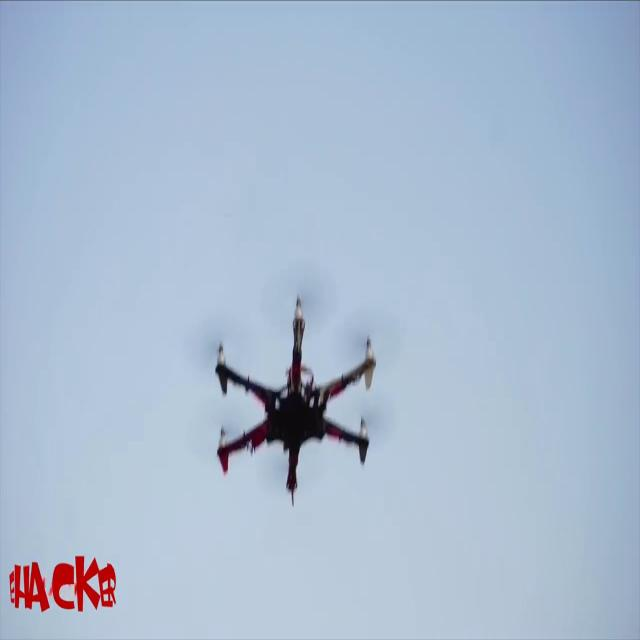drone: (162, 284, 422, 528)
